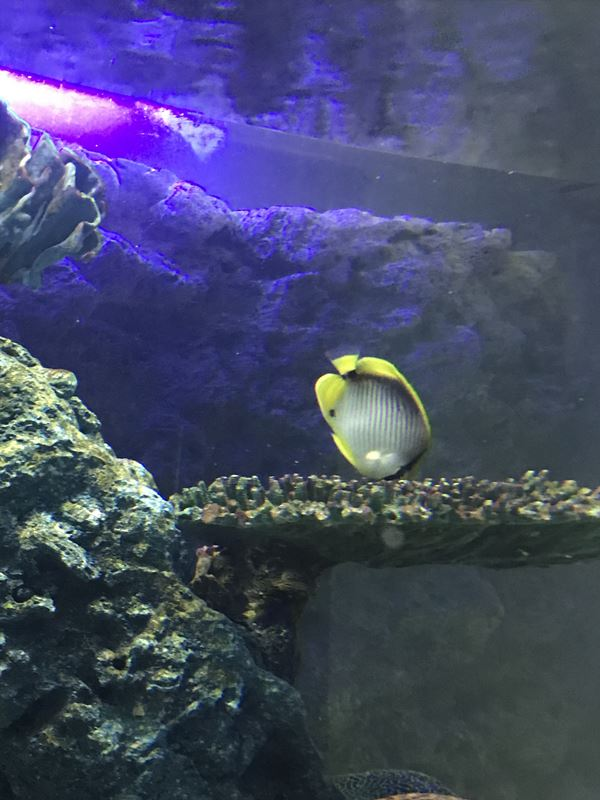Black-backed butterflyfish: (307, 335, 441, 487)
